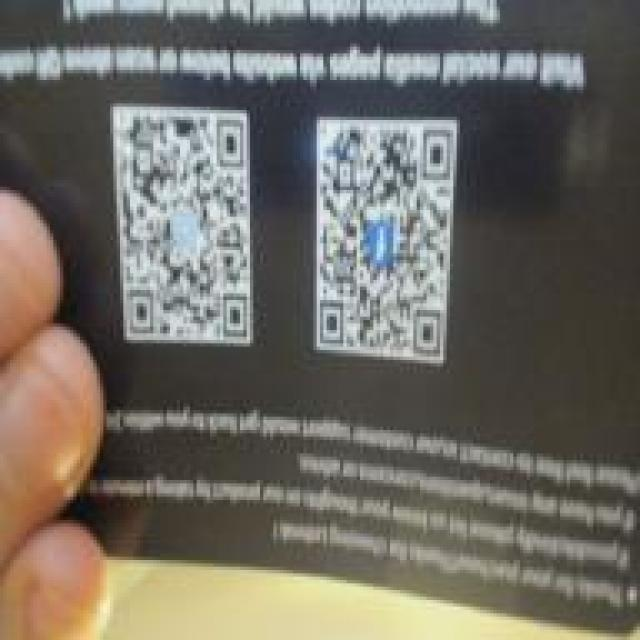QR_CODE: (105, 80, 267, 373), (307, 97, 463, 390)
